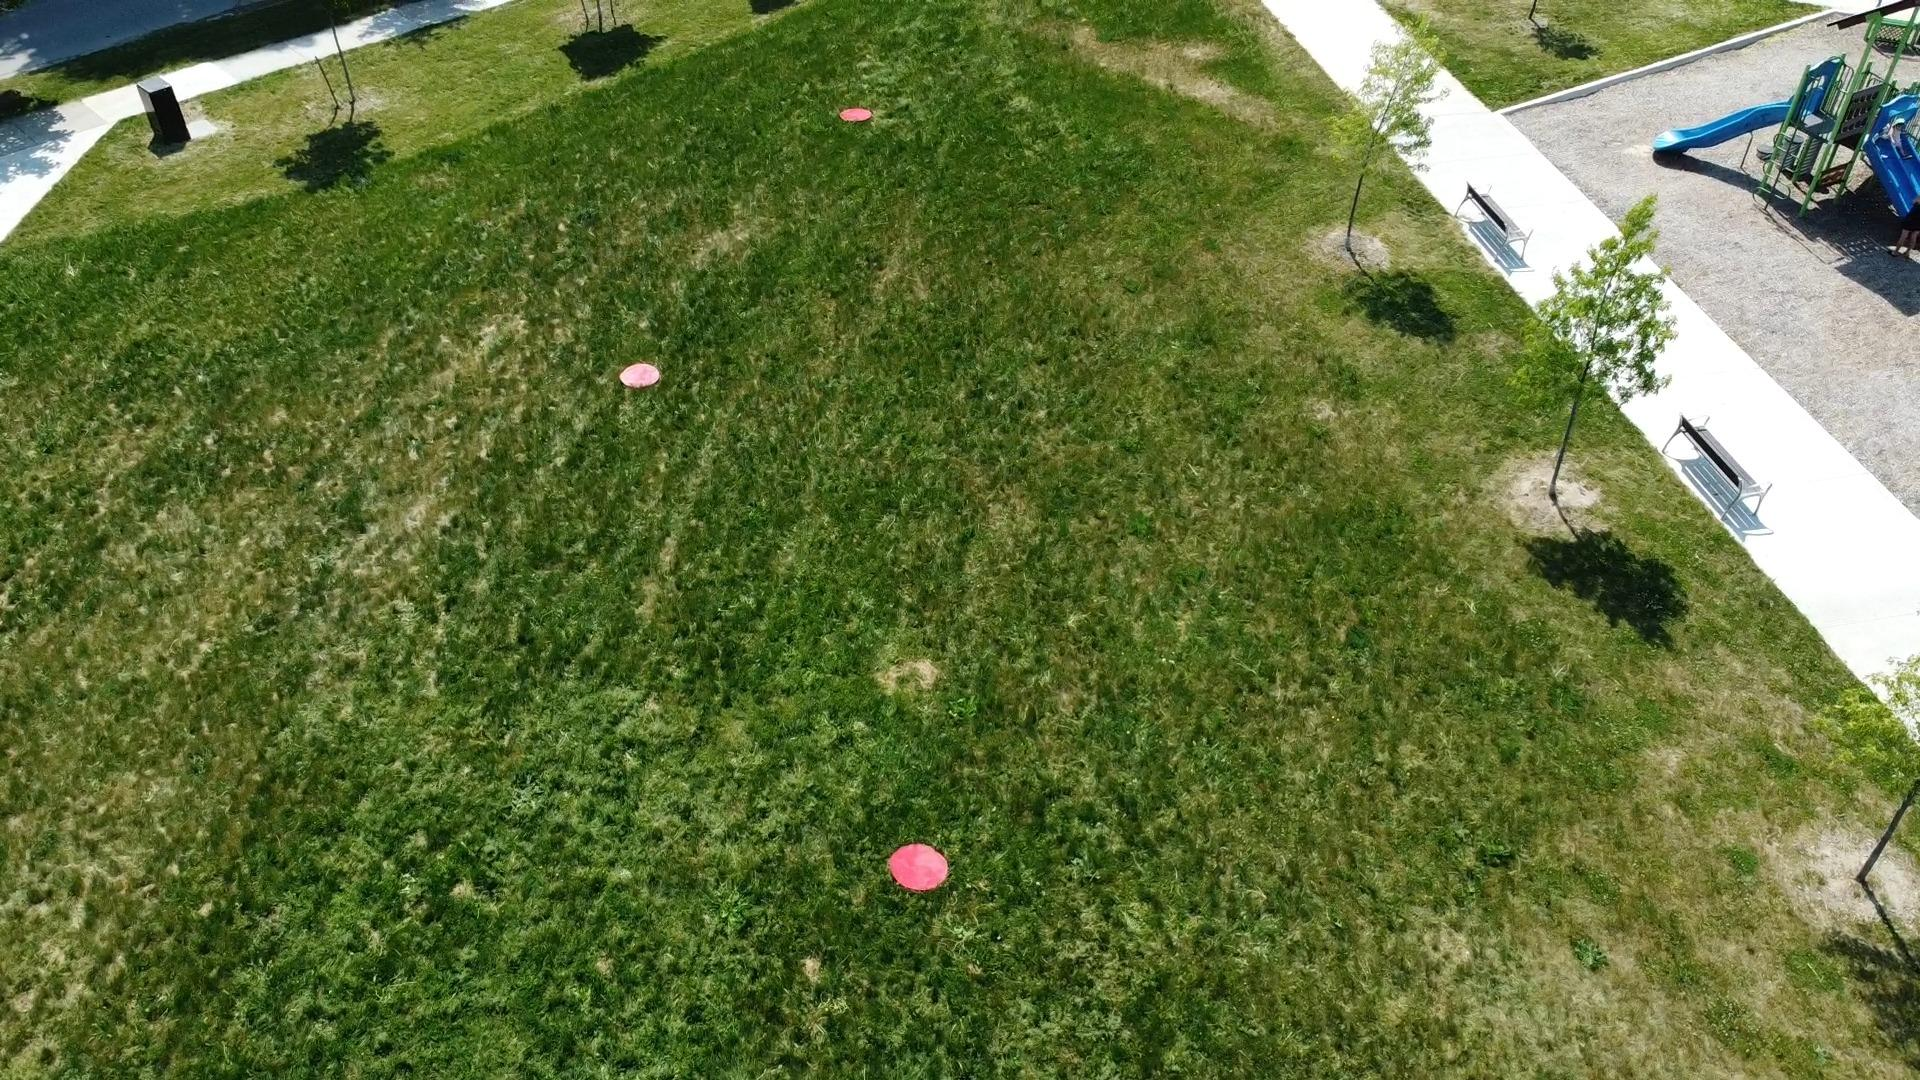Red: (884, 839, 953, 895), (617, 359, 661, 390), (837, 105, 874, 125)
